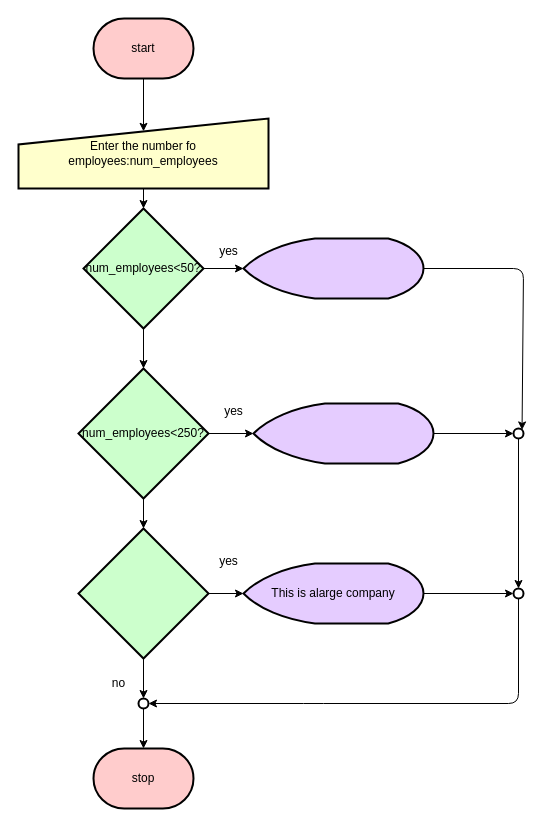
The diagram is 549 pixels wide and 826 high, and some of its shapes have lost their labels. The shapes that lost their labels are listed below. From the top down, each one's box as (x1, y1, x2, y2) in pixels, then its label:
(242, 237, 424, 299): This is a small company
(252, 402, 434, 464): This is a megium-sized company
(77, 527, 209, 659): num_employees>=250
